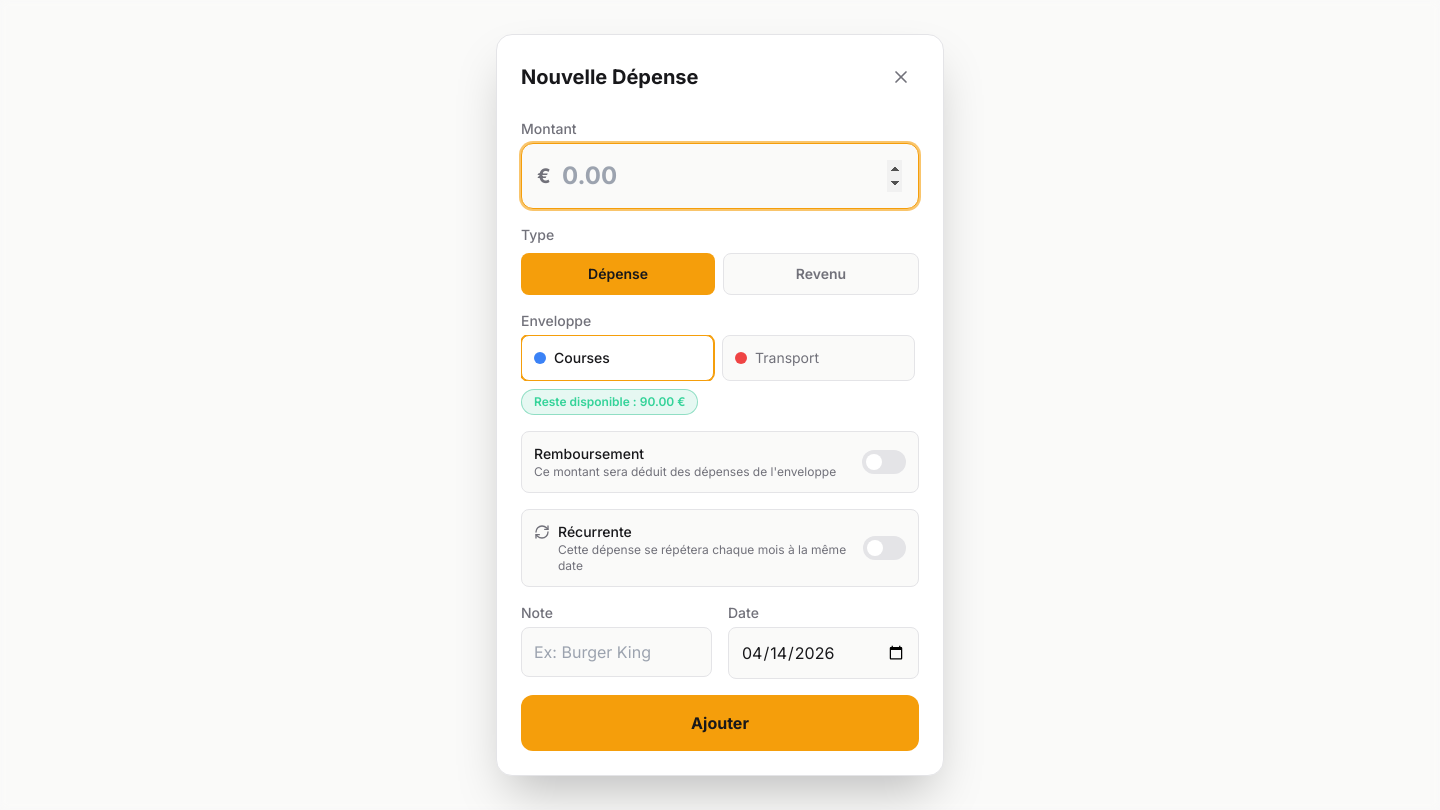
Test: TransactionModal – income transactions › shows Source picker when Revenu is selected and hides Enveloppe
// Click "Revenu"
Click the button "Revenu".
click(821, 274)  # box [723,253,919,295]
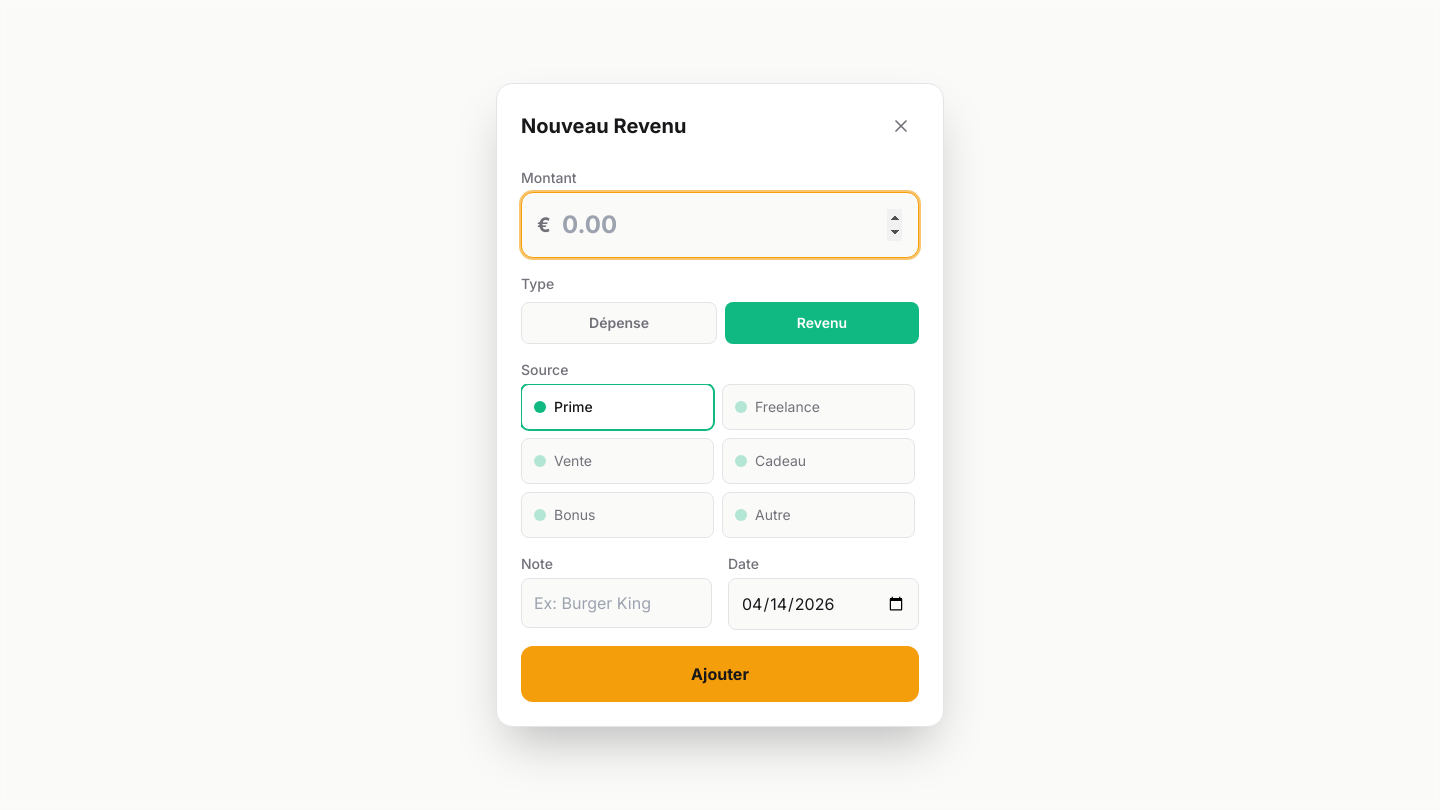
Now the text "Prime" is shown, box [554,397,593,417]
Now the text "Freelance" is shown, box [755,397,820,417]
Now the button "Courses" is gone
